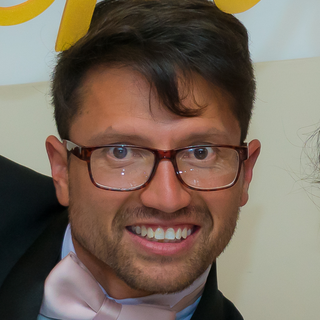eye: (180, 140, 222, 165), (99, 141, 143, 164)
